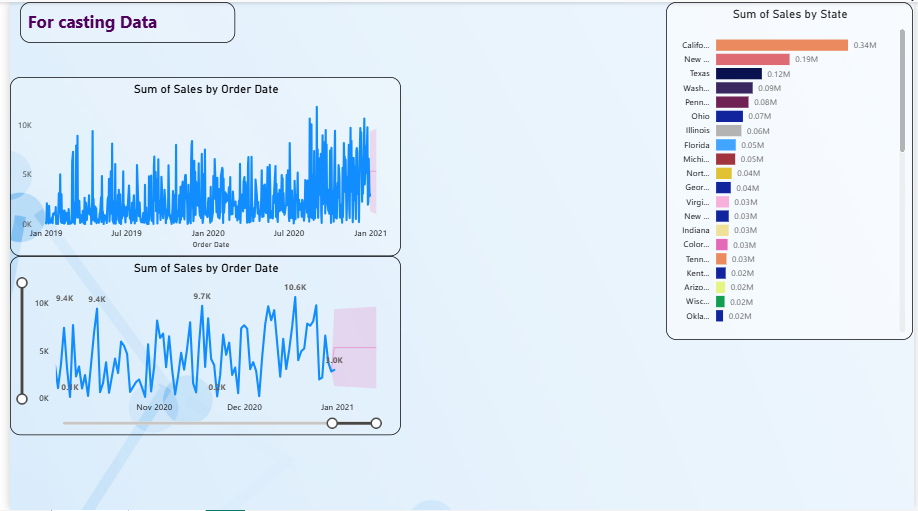

The dashboard page shown, as its layout file describes it:
{"tool":"powerbi","page":{"name":"Page 2","canvas":[1280,720],"ordinal":1},"visuals":[{"type":"textbox","box":[14.4,0,305.3,57.6],"z":0},{"type":"lineChart","fields":{"Y":["Sum(SuperStore_Sales_Dataset.Sales)"],"Category":["SuperStore_Sales_Dataset.Order Date"]},"box":[0,360,554.2,253.7],"z":1000},{"type":"lineChart","fields":{"Y":["Sum(SuperStore_Sales_Dataset.Sales)"],"Category":["SuperStore_Sales_Dataset.Order Date"]},"box":[0,106.3,554.2,253.7],"z":2000},{"type":"clusteredBarChart","fields":{"Y":["Sum(SuperStore_Sales_Dataset.Sales)"],"Category":["SuperStore_Sales_Dataset.State"]},"box":[929.8,0,350.1,479.1],"z":3000}]}

Visuals, with their boxes in screenshot pixels (x1, y1, x2, y2), scaled from the page's 1280x720 canvas onto the 918x511 screenshot:
textbox: 10/0/229/41
lineChart - Sum(SuperStore_Sales_Dataset.Sales) x SuperStore_Sales_Dataset.Order Date: 0/256/397/436
lineChart - Sum(SuperStore_Sales_Dataset.Sales) x SuperStore_Sales_Dataset.Order Date: 0/75/397/256
clusteredBarChart - Sum(SuperStore_Sales_Dataset.Sales) x SuperStore_Sales_Dataset.State: 667/0/917/340
